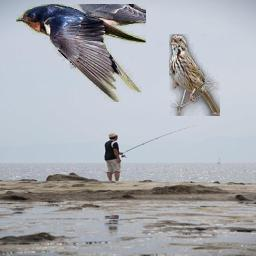Sparrow: (169, 34, 220, 116)
Swallow: (16, 4, 146, 102)
